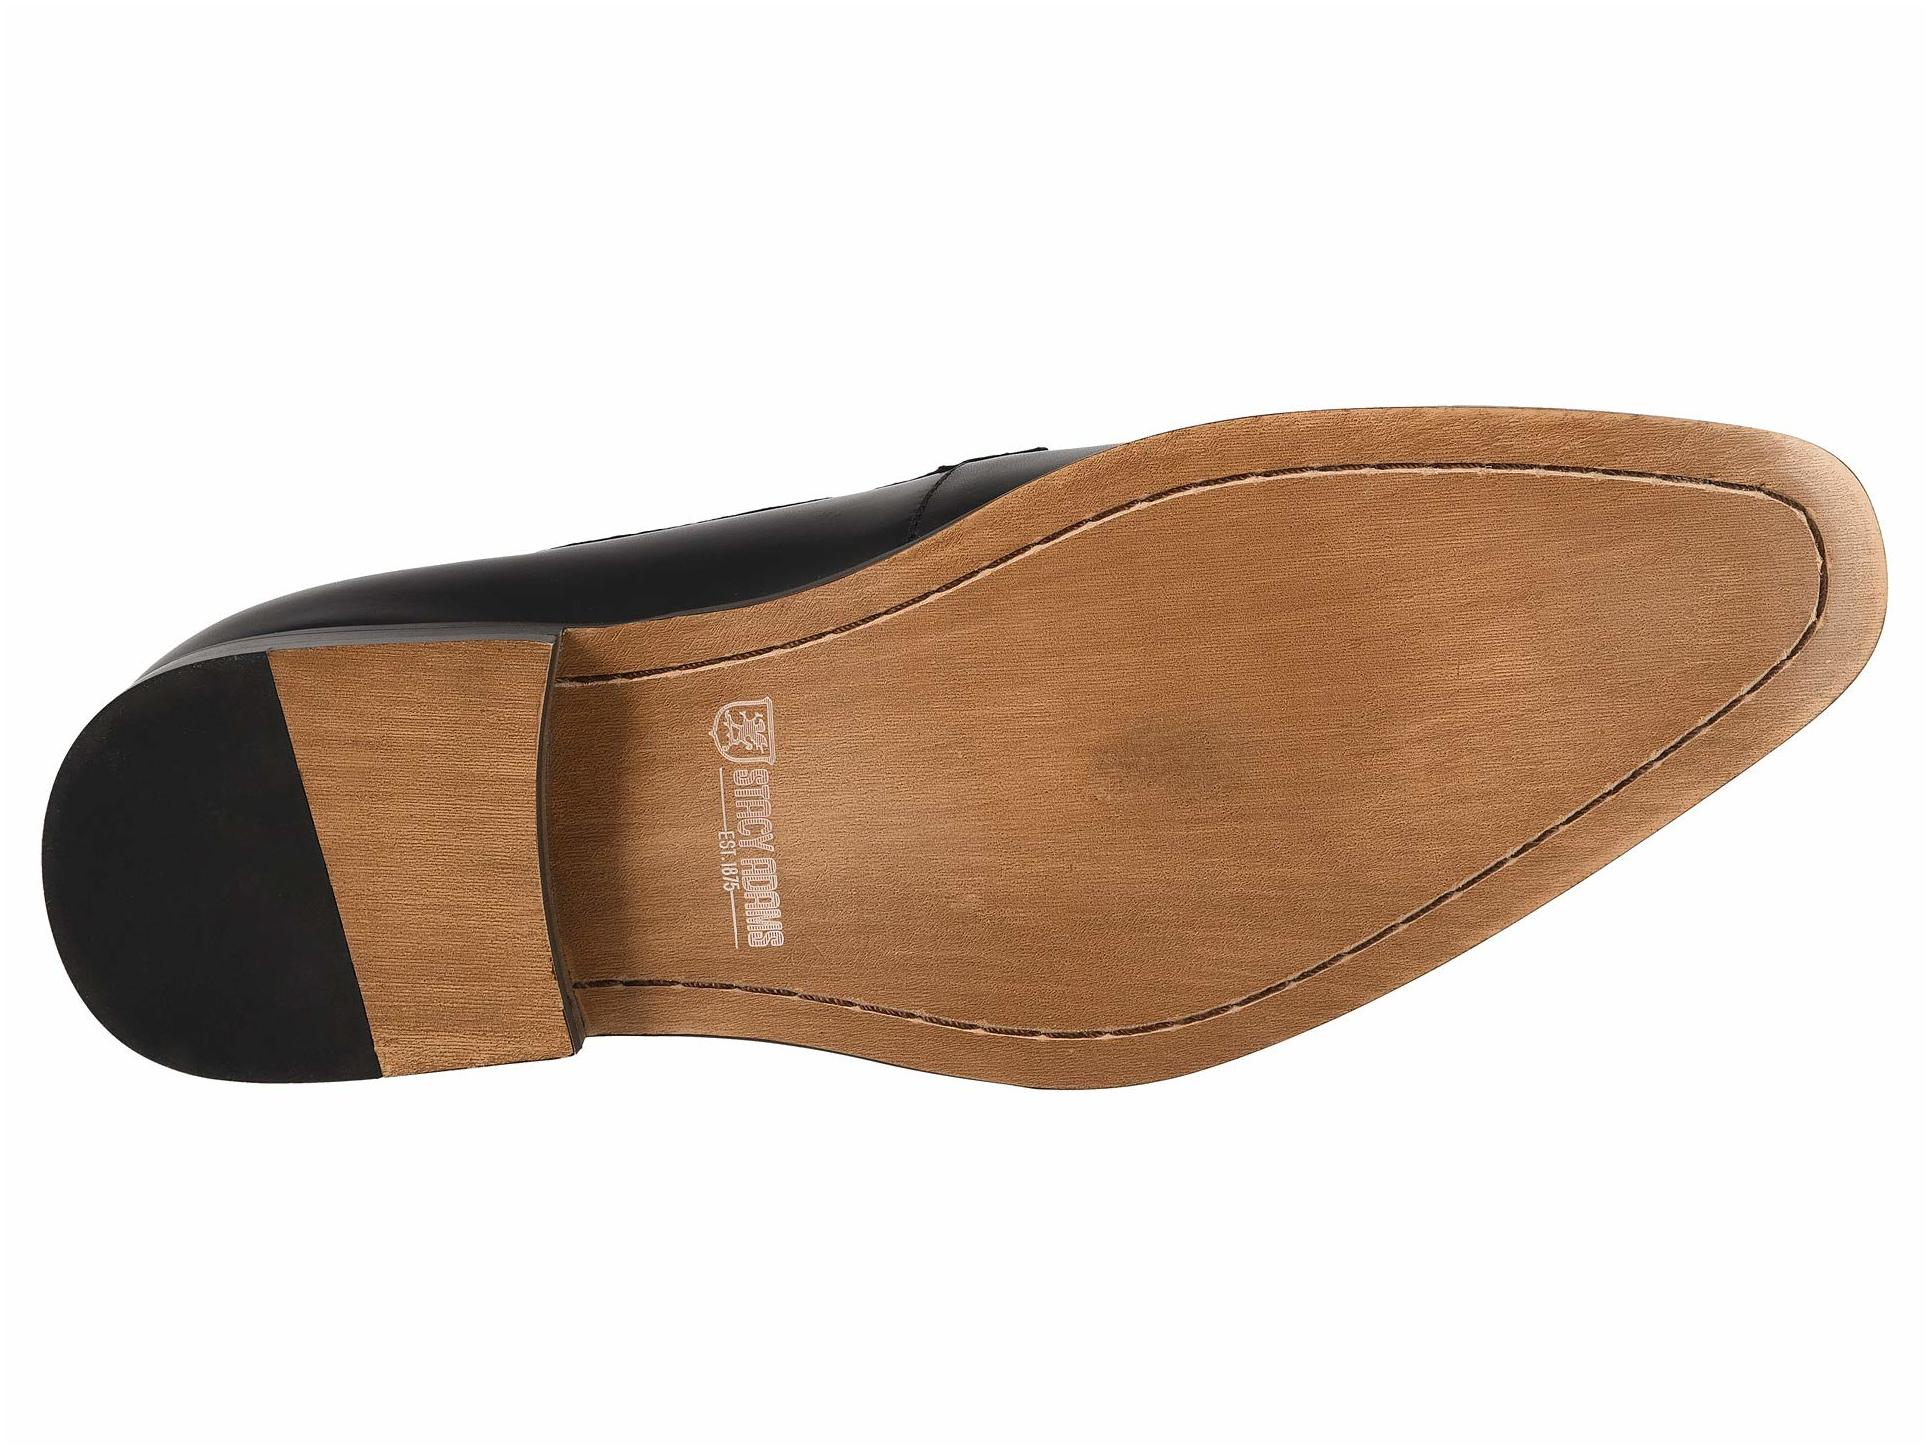exclude: (538, 487, 1011, 1086)
line: (262, 699, 427, 1059), (1225, 439, 1778, 519), (1494, 739, 1622, 889), (1299, 858, 1444, 979), (1685, 626, 1794, 757), (1075, 975, 1251, 1056), (1799, 510, 1833, 618)
